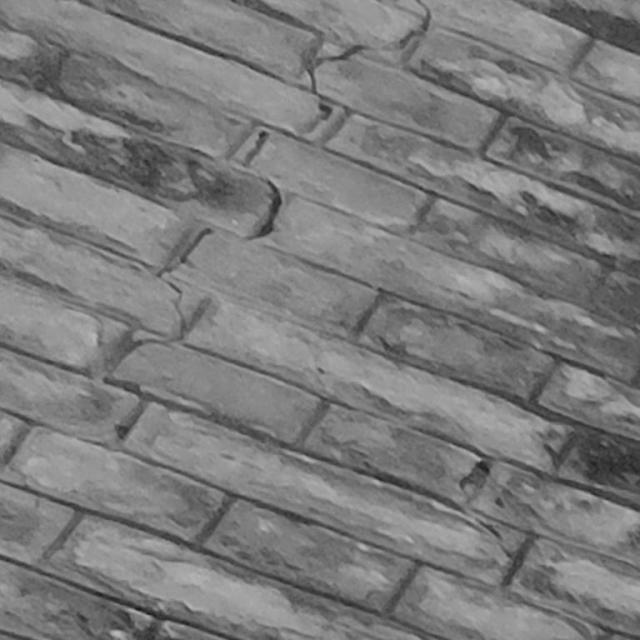crack: (130, 1, 432, 347)
